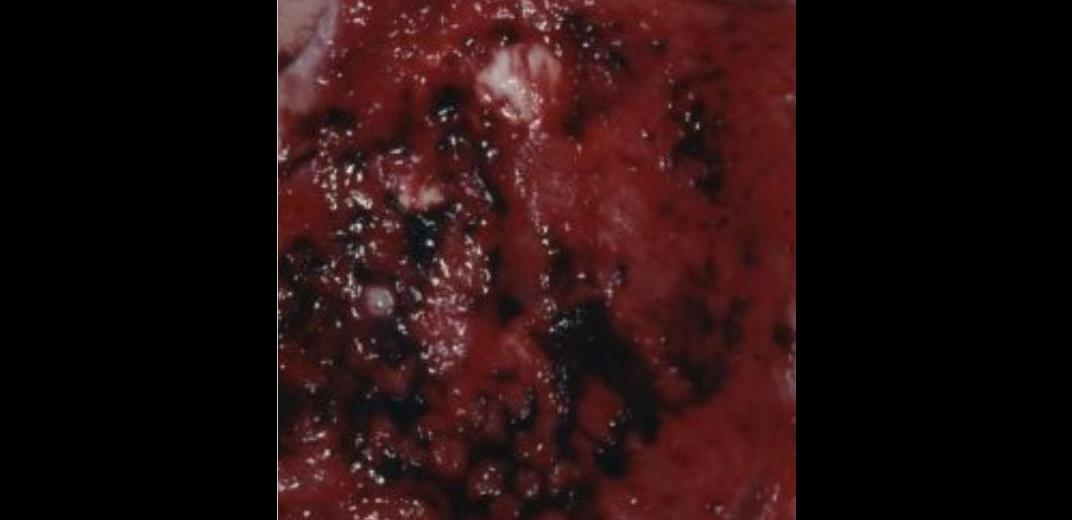Stage3: (276, 0, 796, 520)
